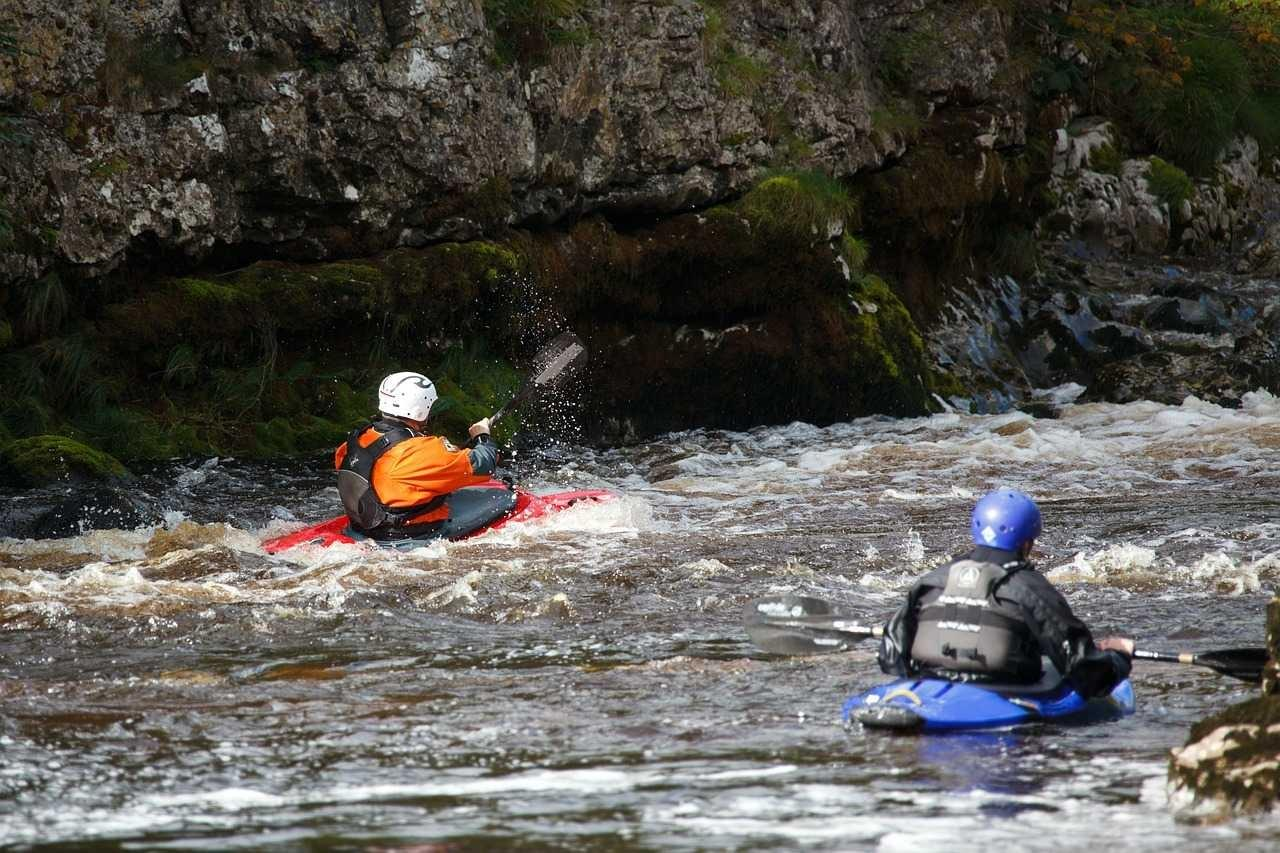kayak: (262, 487, 623, 553), (838, 662, 1133, 731)
